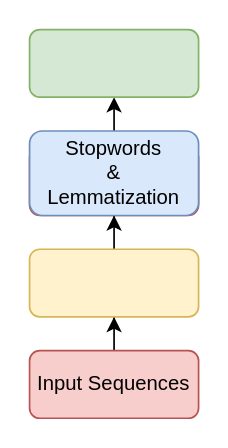
This 228x448 diagram has some shape labels left out. Here are the shapes that lost their labels. From the top down, the centre of each, then its label:
point 113,62: Training with Encoder
point 113,282: Text Cleaning
